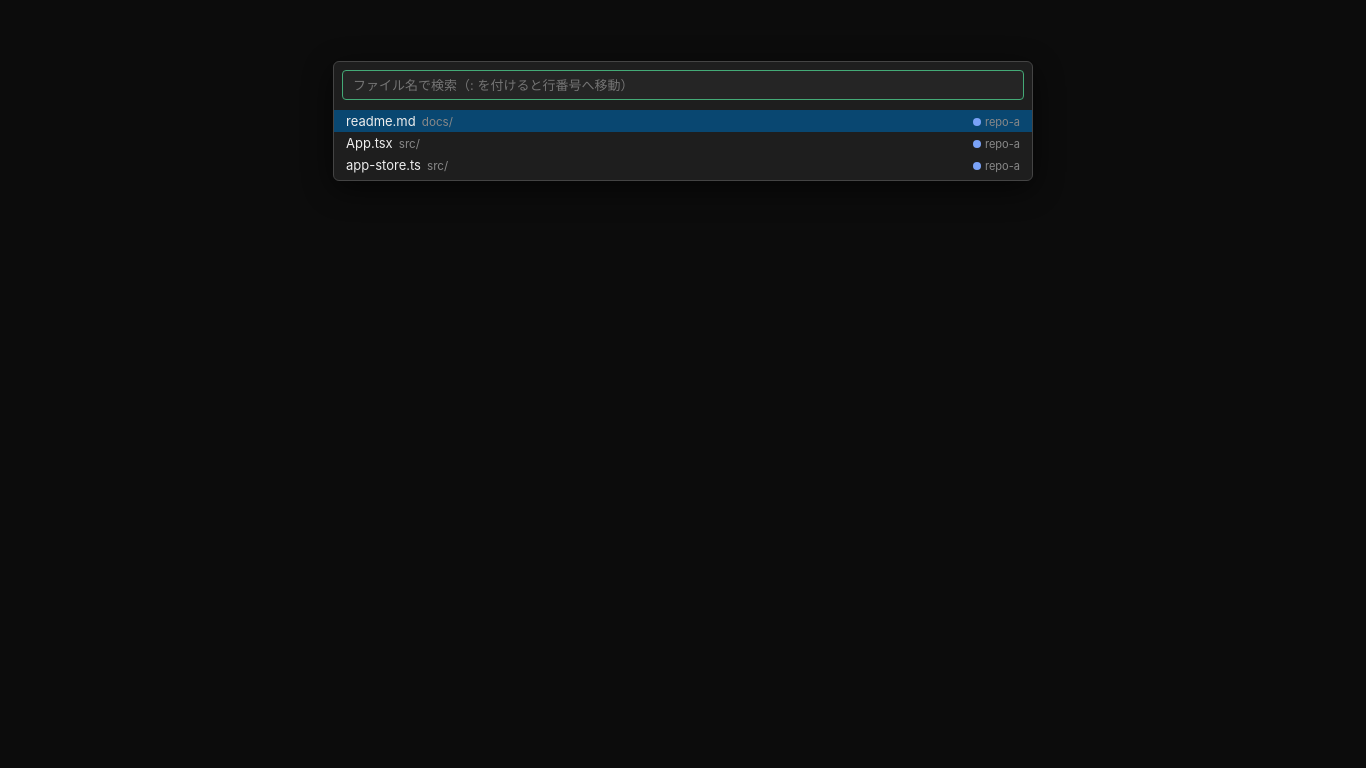
QuickOpen › shows the empty state when nothing matches
Type "zzzznomatch" into the field with placeholder "ファイル名で検索（: を付けると行番号へ移動）".
click(683, 85); type("zzzznomatch")  # box [342,70,1024,100]
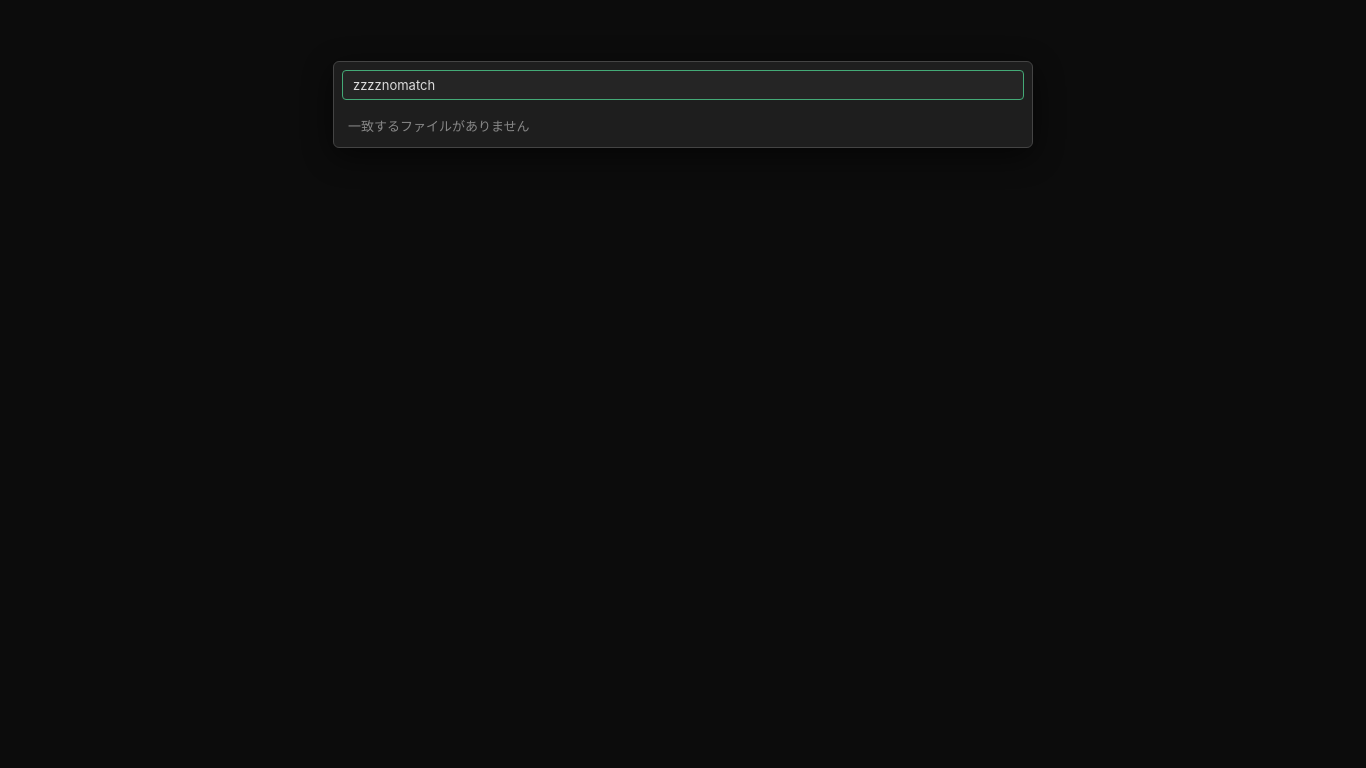
expect the text "一致するファイルがありません" is shown: met, box [348,118,530,134]
